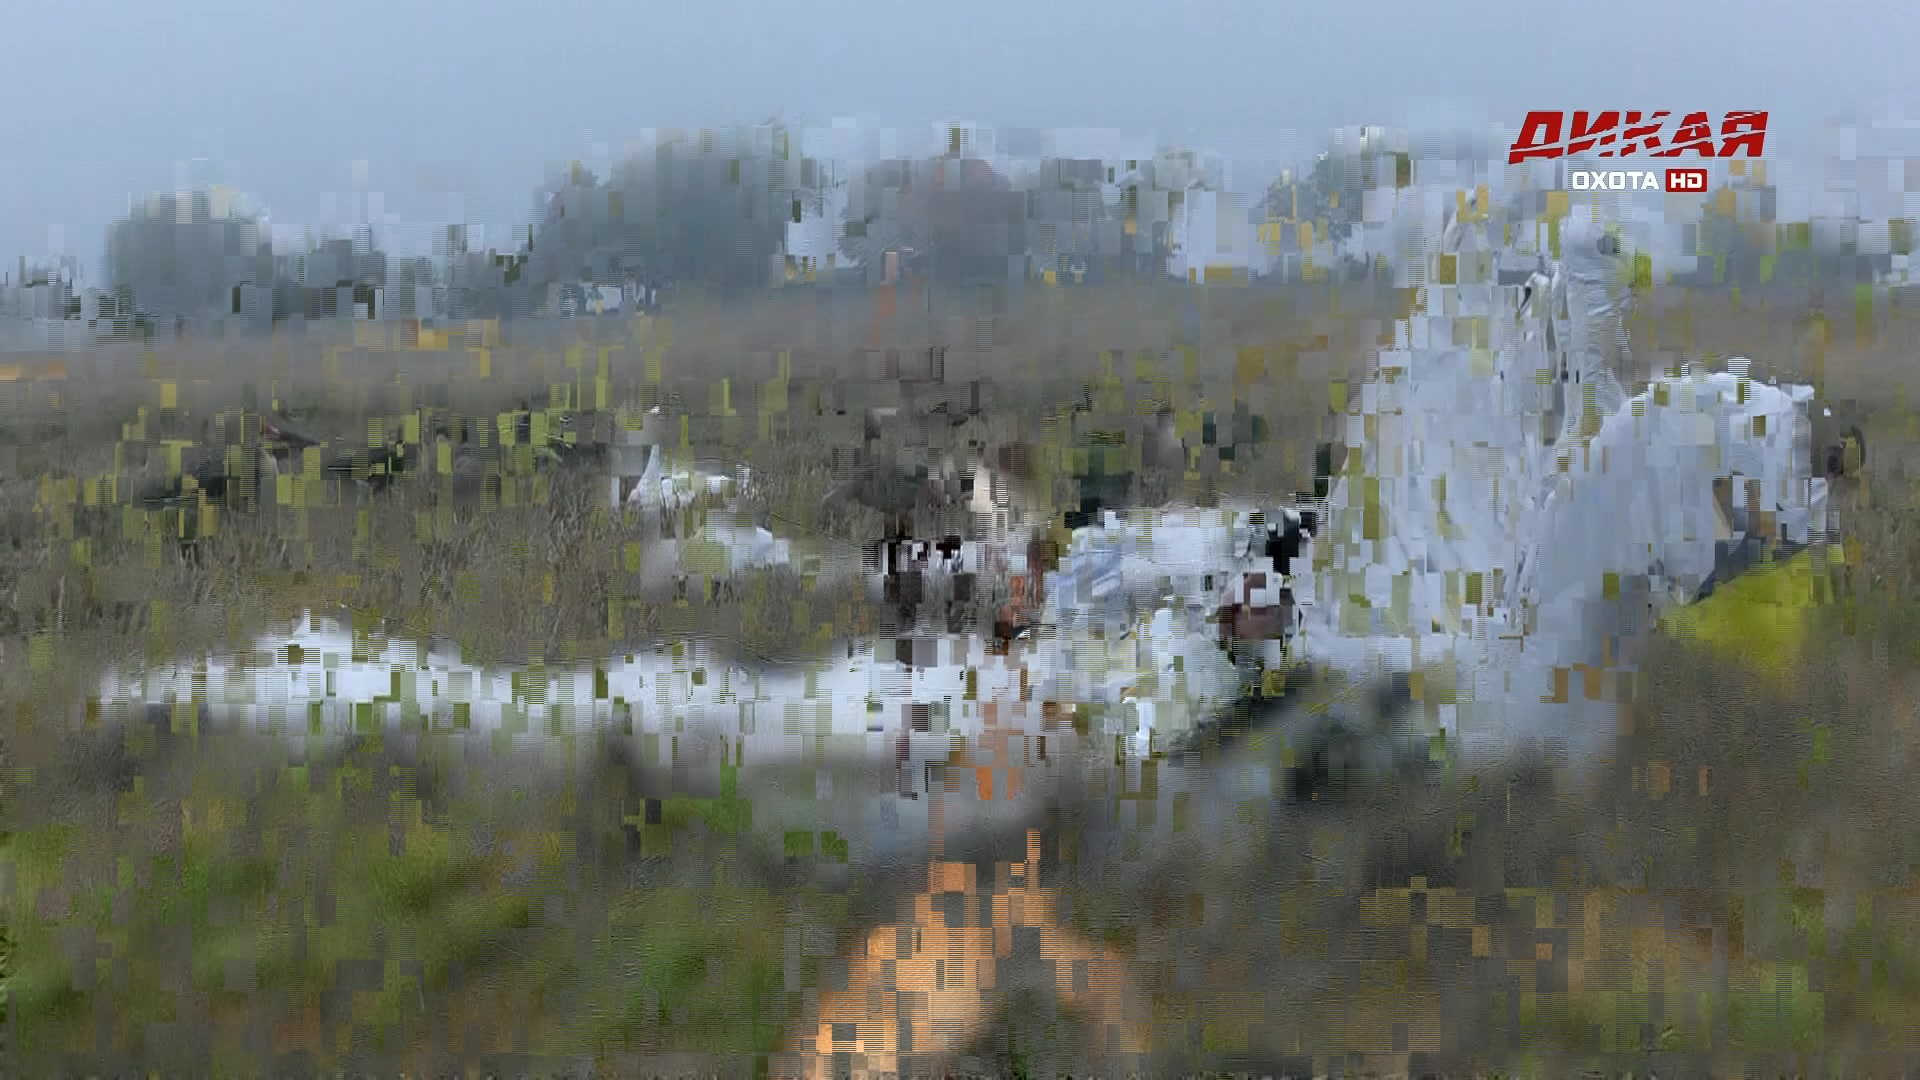Dikaya_Ohota_HD: (1506, 108, 1770, 195)
